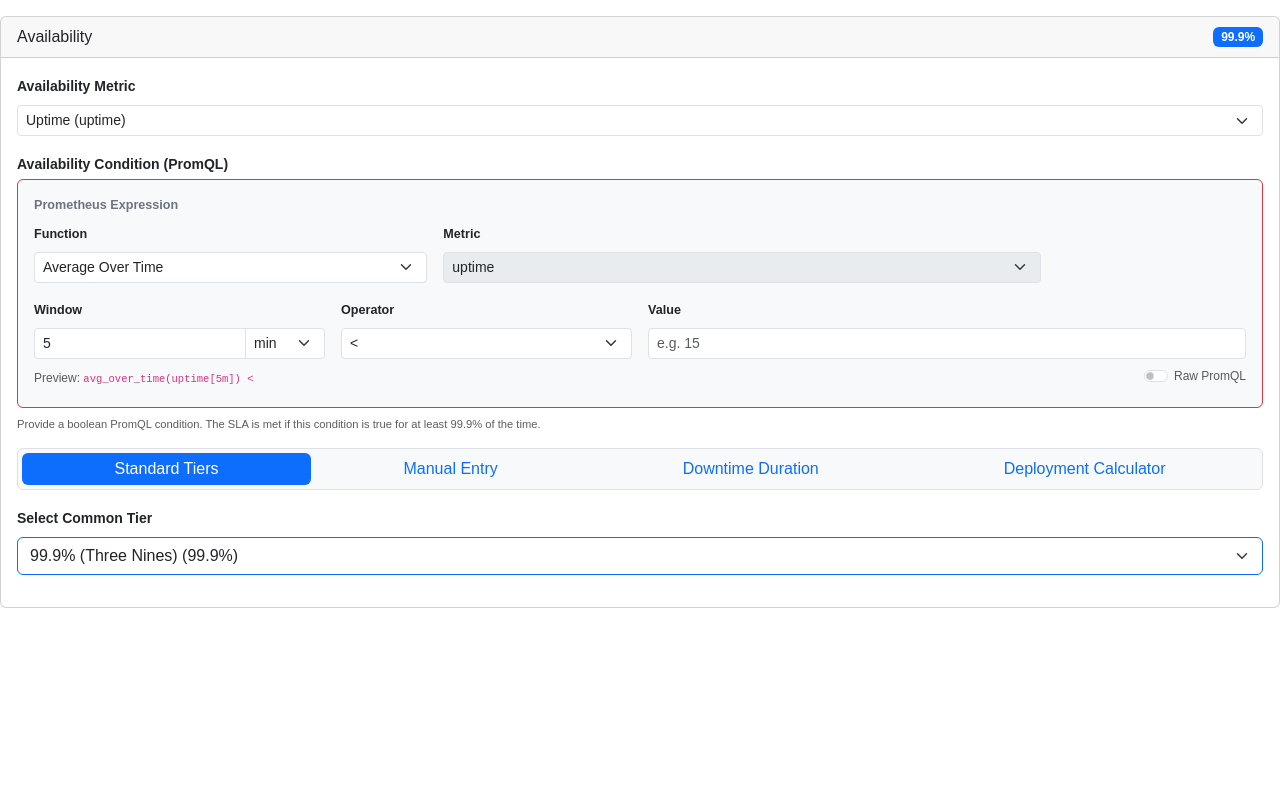
Test: AvailabilityEditor › calculates downtime based on percentage (Downtime Duration mode)
This screenshot has width=1280, height=800.
// Switch to Downtime Duration mode
Click the button "Downtime Duration" at (751, 470), box [590,454,911,486]
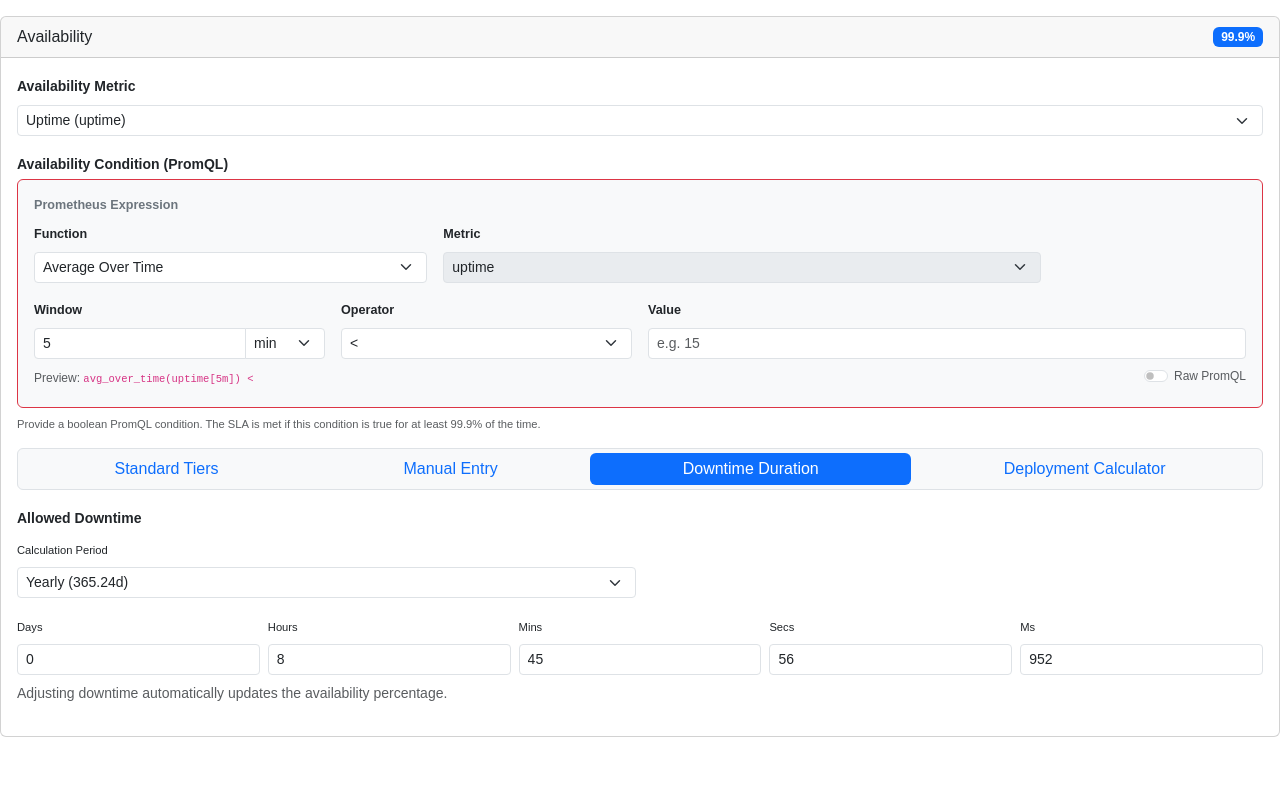
// Select daily
Select "Daily" in the dropdown below "Calculation Period" at (326, 583), box [17,567,636,598]
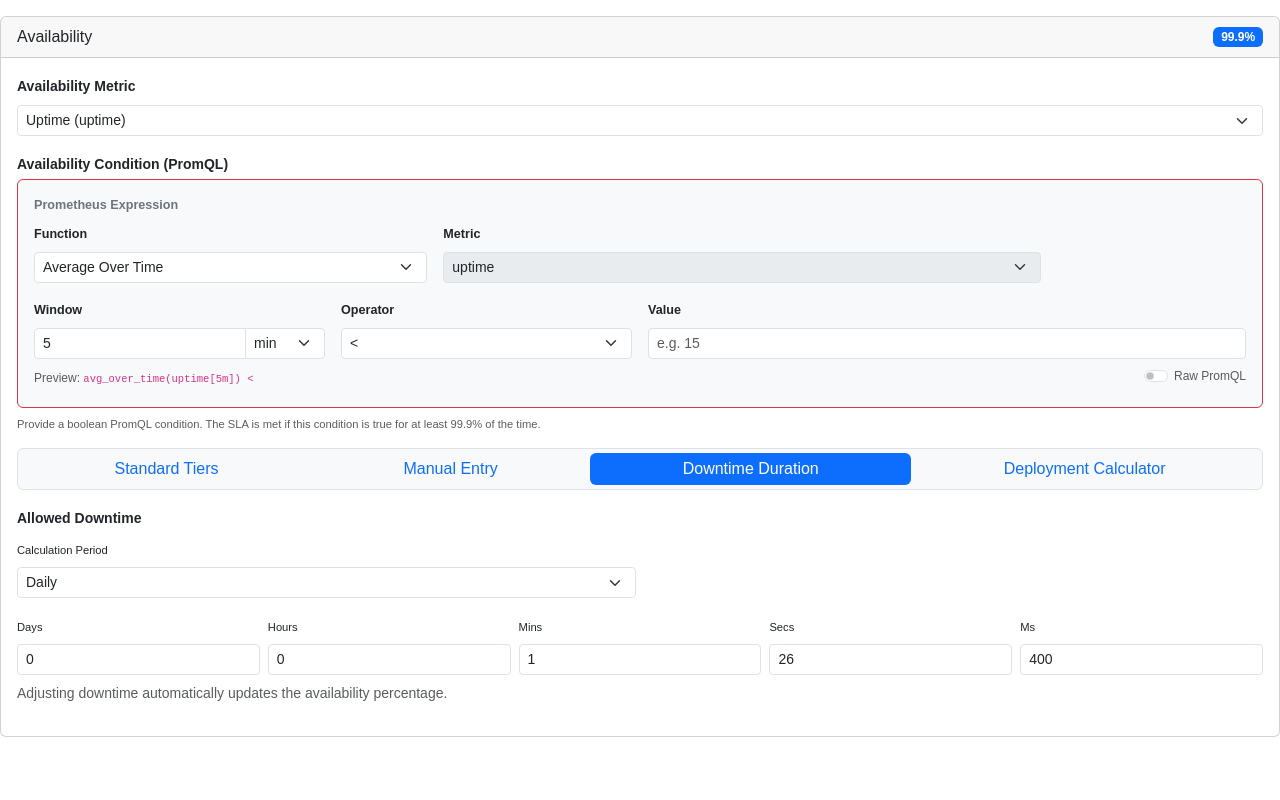
expect the number field with class "downtime-mins" holds "1": met, box [519,644,761,675]
expect the number field with class "downtime-secs" holds "26": met, box [769,644,1012,675]
expect the number field with class "downtime-ms" holds "400": met, box [1020,644,1263,675]
